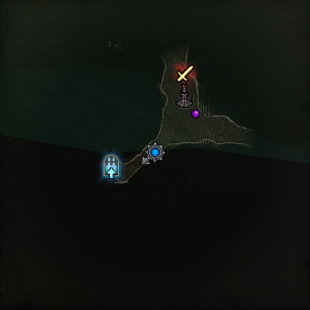PowerPylon: (172, 64, 195, 108)
